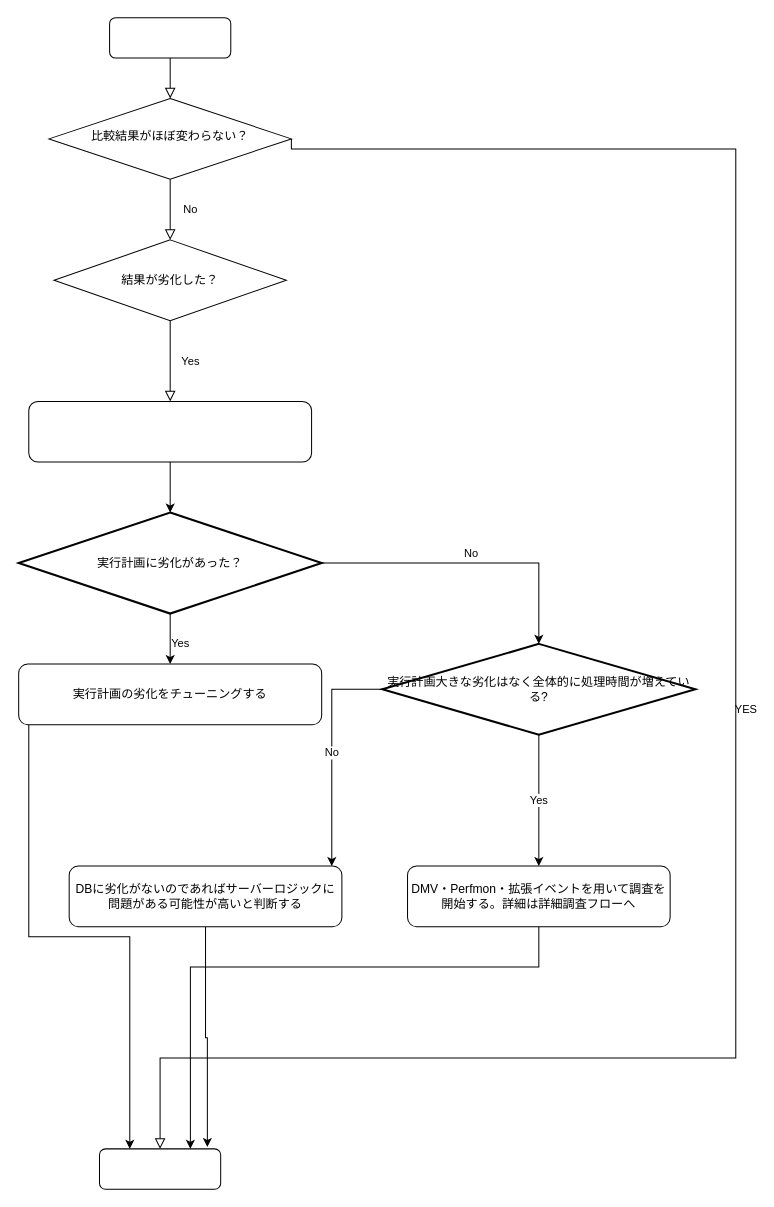
The diagram is 774 pixels wide and 1207 high, and some of its shapes have lost their labels. The centre of each missing label's shape, as x and y in pixels:
jmeterの結果を前回の結果と比較する: the point at 170,37
クエリストアで異常な処理時間を占めている処理があるか確認する: the point at 170,431
調査終了: the point at 159,1168
